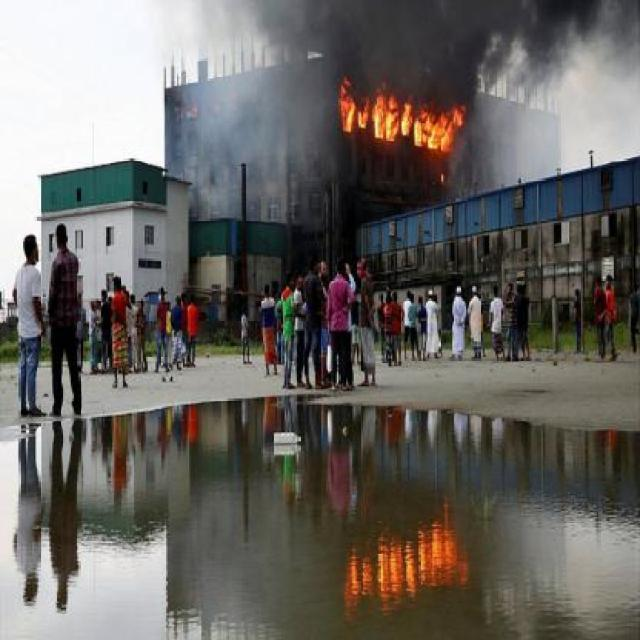Fire: (336, 75, 473, 158)
